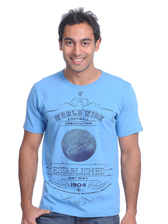clothoes: (21, 66, 145, 217)
